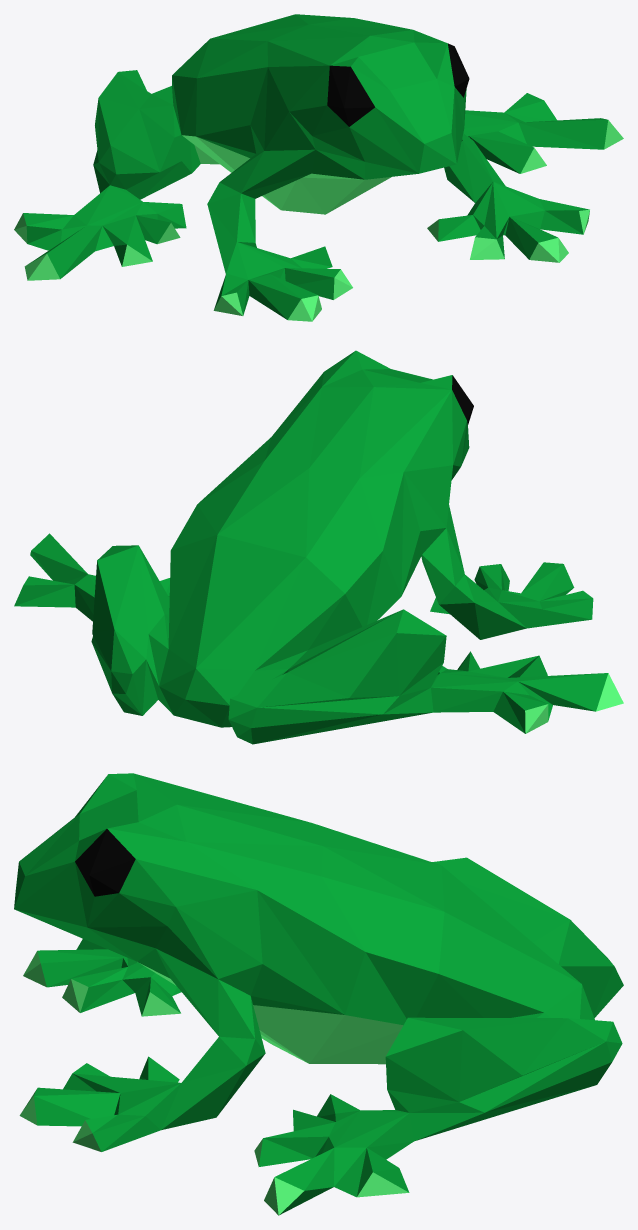
Rendered from PolyFrog.fbx.
3 views of the same model, one above another, from view 1: azimuth 30°, elevation 25°; view 2: azimuth 150°, elevation 25°; view 3: azimuth 270°, elevation 25° (orthographic). The views are drawn at different scales.
Parts seen in each view (by area): view 1: Frog; view 2: Frog; view 3: Frog.
Boxes of the visible parts, x1=… form: Frog: x1=14, y1=14, x2=623, y2=321; Frog: x1=14, y1=350, x2=623, y2=744; Frog: x1=14, y1=773, x2=623, y2=1215.
Size of the model in its own units: 2451 by 830 by 1874.
